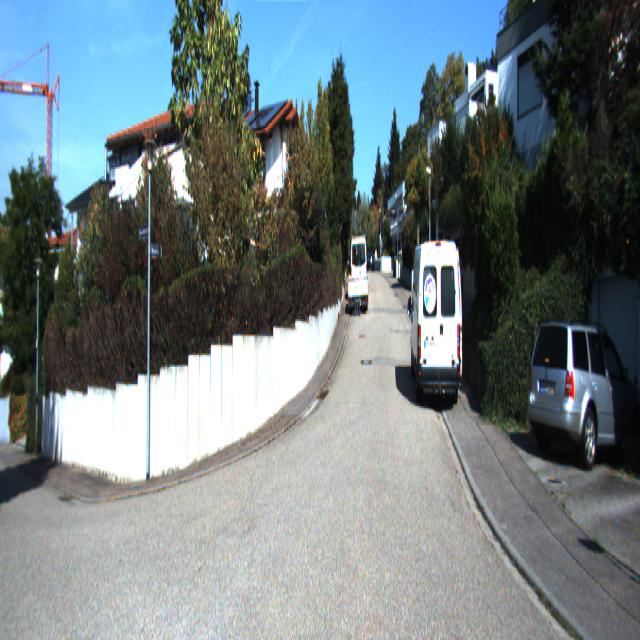Car: (526, 317, 640, 471), (408, 230, 466, 407), (350, 234, 368, 302), (347, 272, 369, 306)
